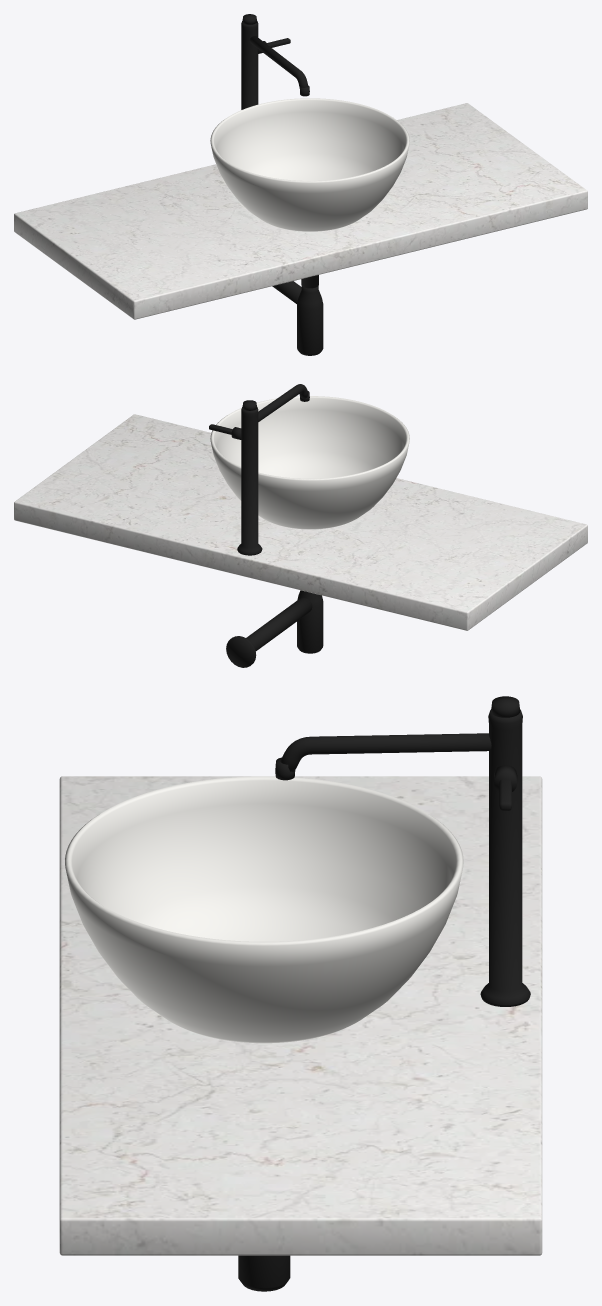
Rendered from lavabo_sobre_encimera_redondo_marmol_100.glb.
3 renders of one model, top to bottom at view 1: azimuth 30°, elevation 25°; view 2: azimuth 150°, elevation 25°; view 3: azimuth 270°, elevation 25°, orthographic. The views are drawn at different scales.
Parts seen in each view (by area): view 1: lavabo_sobre_encimera_redondo_marmol_100; view 2: lavabo_sobre_encimera_redondo_marmol_100; view 3: lavabo_sobre_encimera_redondo_marmol_100.
Boxes of the visible parts, left/top/right/bottom form: lavabo_sobre_encimera_redondo_marmol_100: left=14, top=14, right=587, bottom=355; lavabo_sobre_encimera_redondo_marmol_100: left=14, top=384, right=587, bottom=667; lavabo_sobre_encimera_redondo_marmol_100: left=59, top=696, right=542, bottom=1291.
Size of the model in its own units: 1 by 0.612 by 0.46.
Materials: 3 (1 with a texture image).
